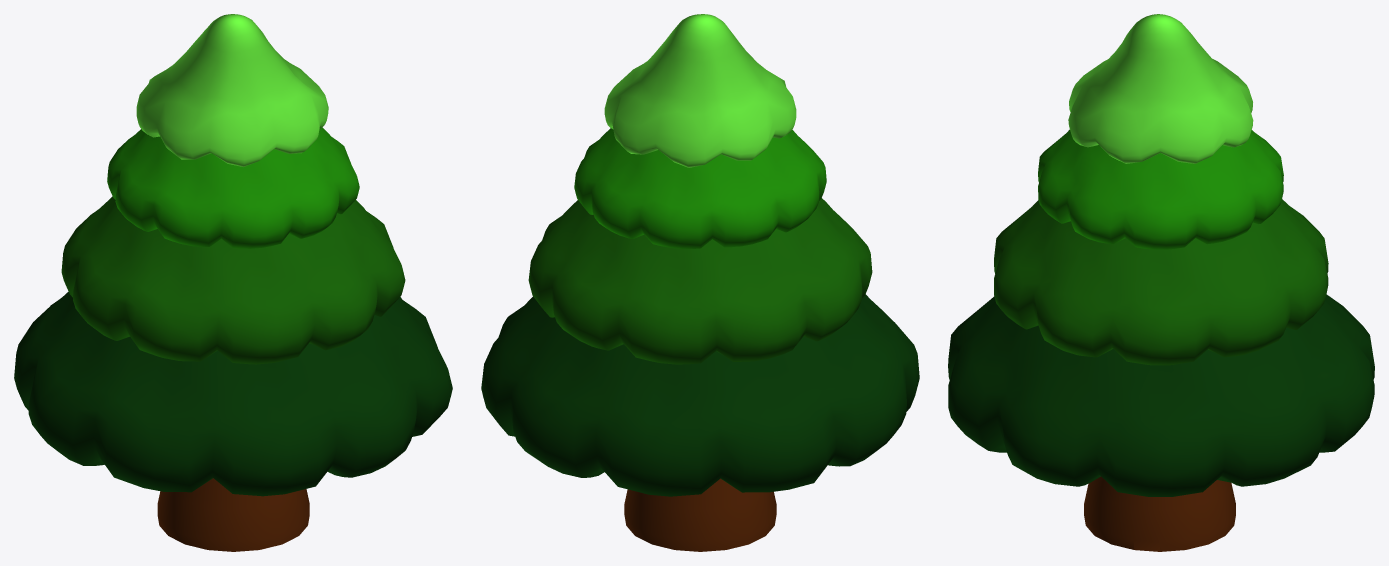
File: Sapin_triangle.fbx
The picture shows the model from 3 angles, left to right: view 1: azimuth 30°, elevation 25°; view 2: azimuth 150°, elevation 25°; view 3: azimuth 270°, elevation 25°; orthographic projection.
Parts seen in each view (by area): view 1: Tronc, 4; view 2: Tronc, 4; view 3: Tronc, 4.
Part boxes in pixels (box(x1,y1,x2,y2)): Tronc: box(14, 127, 452, 551); 4: box(136, 14, 328, 166); Tronc: box(481, 128, 919, 551); 4: box(604, 14, 796, 167); Tronc: box(948, 129, 1374, 551); 4: box(1068, 14, 1253, 163).
Bounding box in the file's own units: 40.38 × 51.02 × 39.32.
